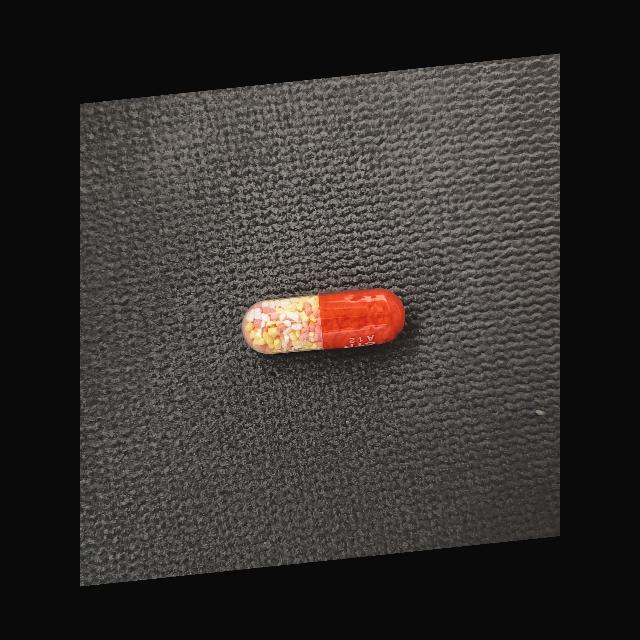Intact Capsule: (242, 289, 406, 354)
